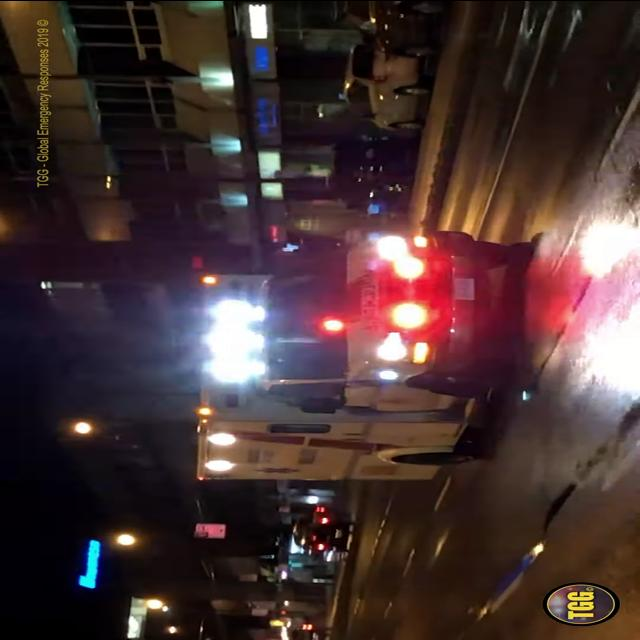emergency-vehicles: (173, 205, 545, 493)
